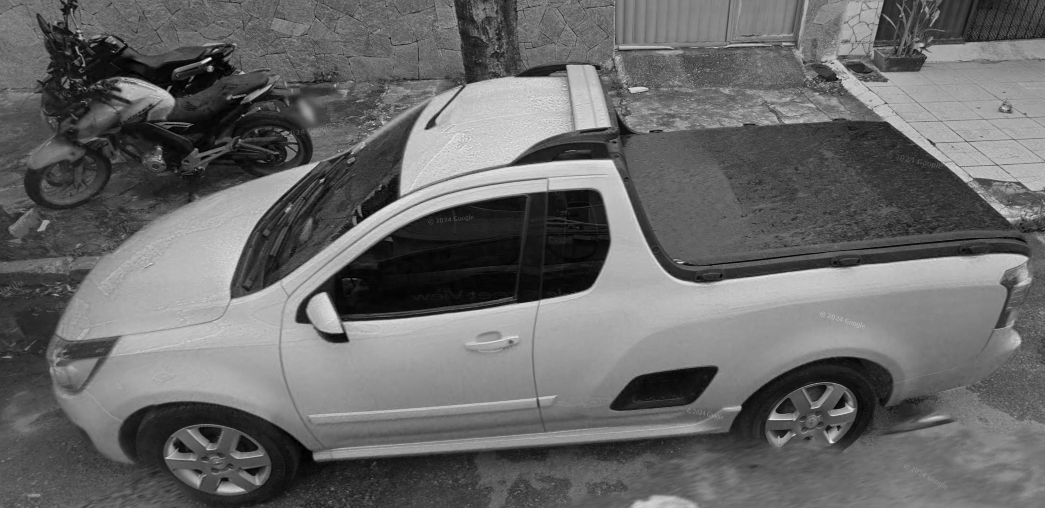car: (47, 68, 1028, 506)
